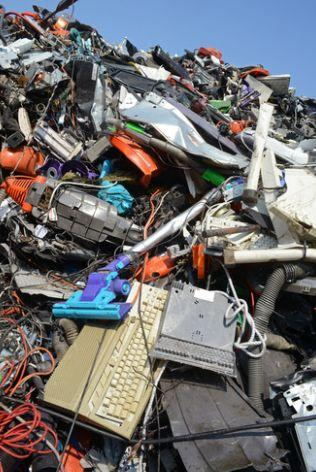electronic: (42, 284, 170, 437), (8, 243, 119, 294), (268, 368, 315, 471), (0, 323, 54, 399), (1, 399, 57, 461), (215, 290, 264, 358), (43, 177, 117, 213), (72, 60, 99, 126), (35, 125, 79, 161), (202, 214, 253, 241), (23, 176, 52, 209), (83, 136, 112, 164), (256, 74, 290, 96), (222, 177, 245, 204), (201, 167, 227, 187), (5, 130, 26, 149)
